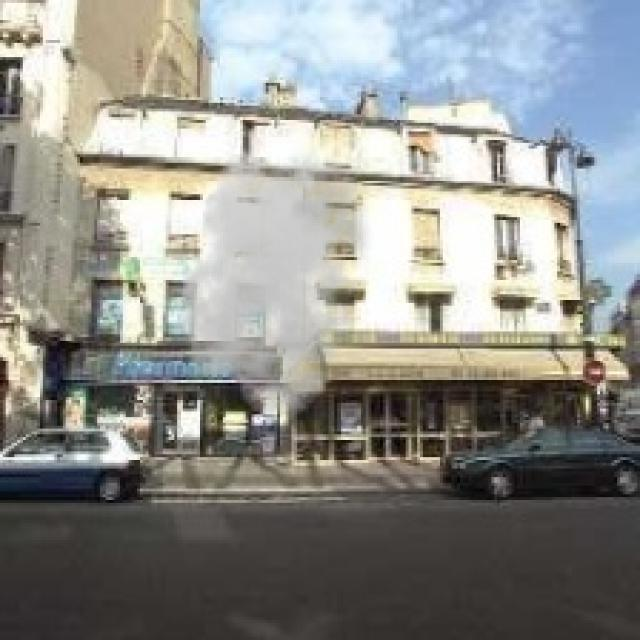Smoke: (172, 142, 374, 418)
